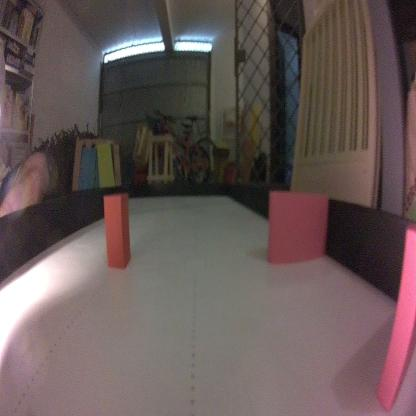magenta: (374, 218, 414, 416), (265, 188, 331, 274)
red: (103, 192, 131, 274)
